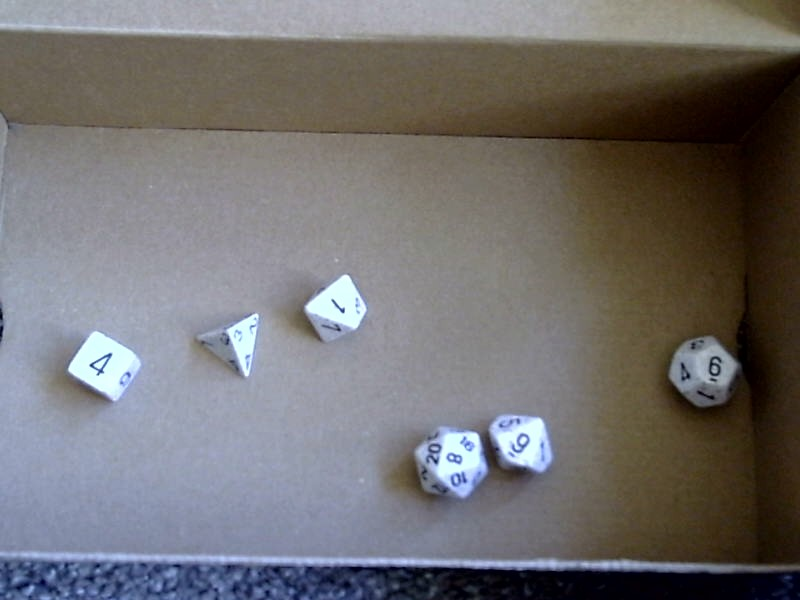d10 9: (489, 401, 554, 481)
d12 6: (661, 325, 747, 417)
d20 8: (403, 418, 490, 510)
d4 3: (191, 307, 265, 387)
d6 4: (62, 325, 145, 411)
d8 1: (300, 275, 368, 343)
